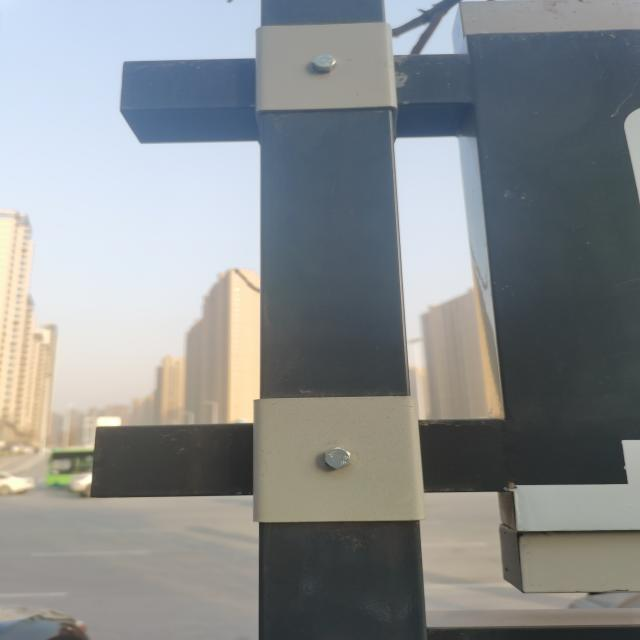bolt head: (322, 445, 352, 471), (309, 53, 341, 74)
